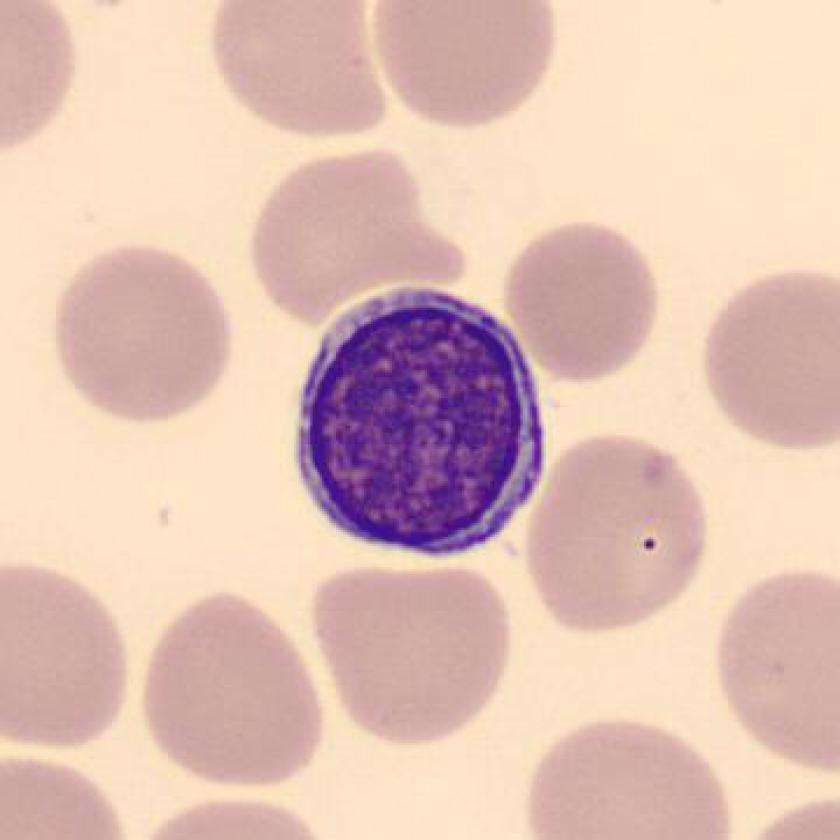lymphocyte: (279, 281, 563, 568)
